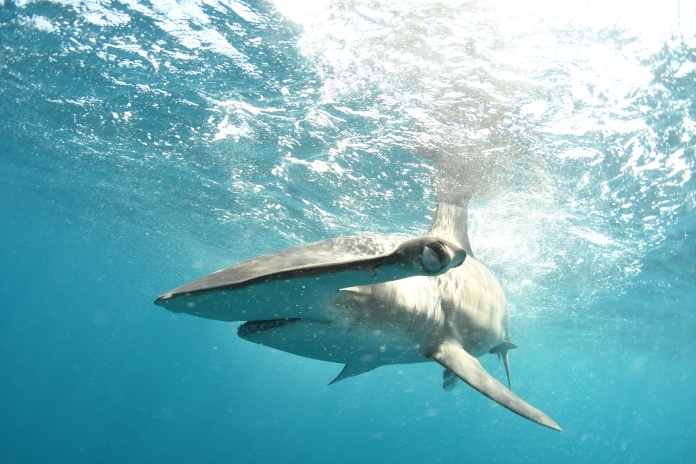Hammer: (119, 164, 577, 460)
